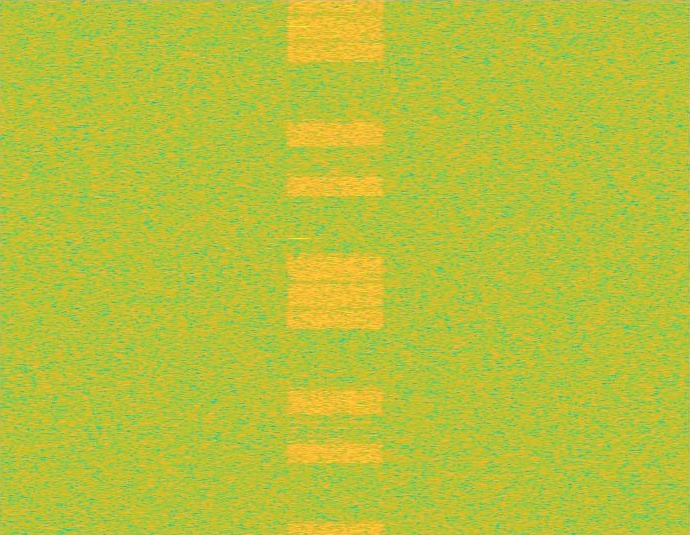LTE: (284, 0, 387, 534)
Radar: (292, 0, 306, 534)
